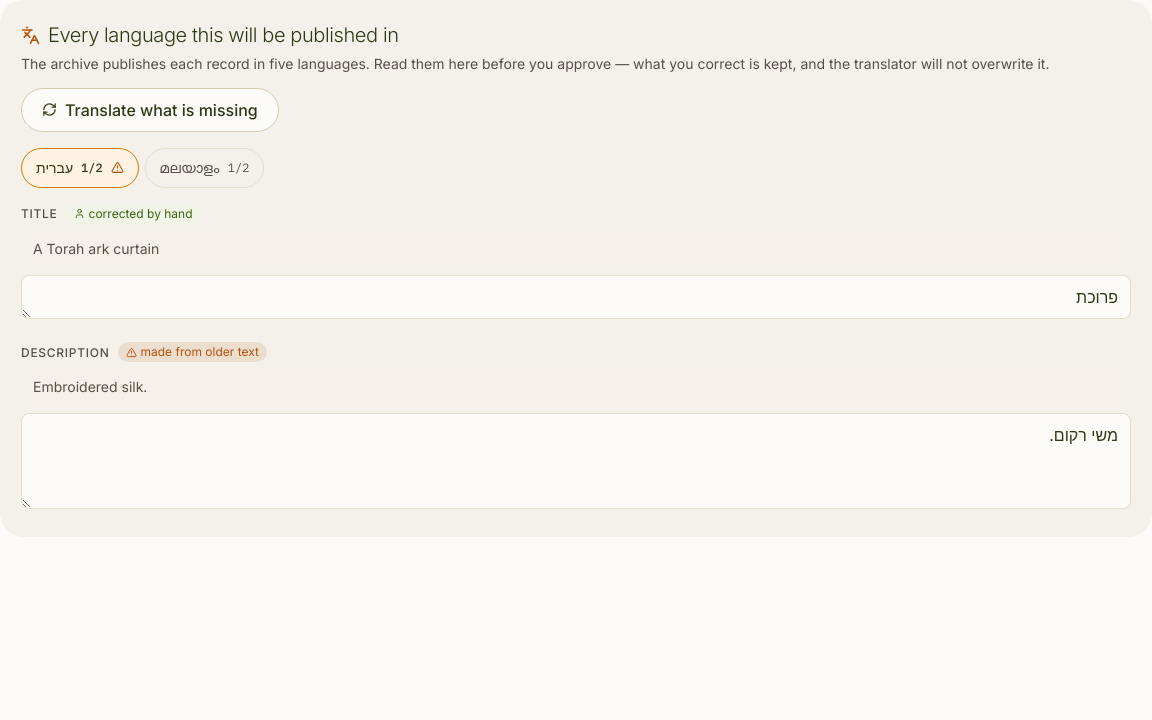
Scenario: the languages a record will be published in › offers to save only once something has actually been changed
Check: the text "עברית" is shown, box [36,158,73,178]
Check: the text "Save correction" is not shown
Type "!" into the text box below "A Torah ark curtain" at (576, 296), box [21,274,1131,318]
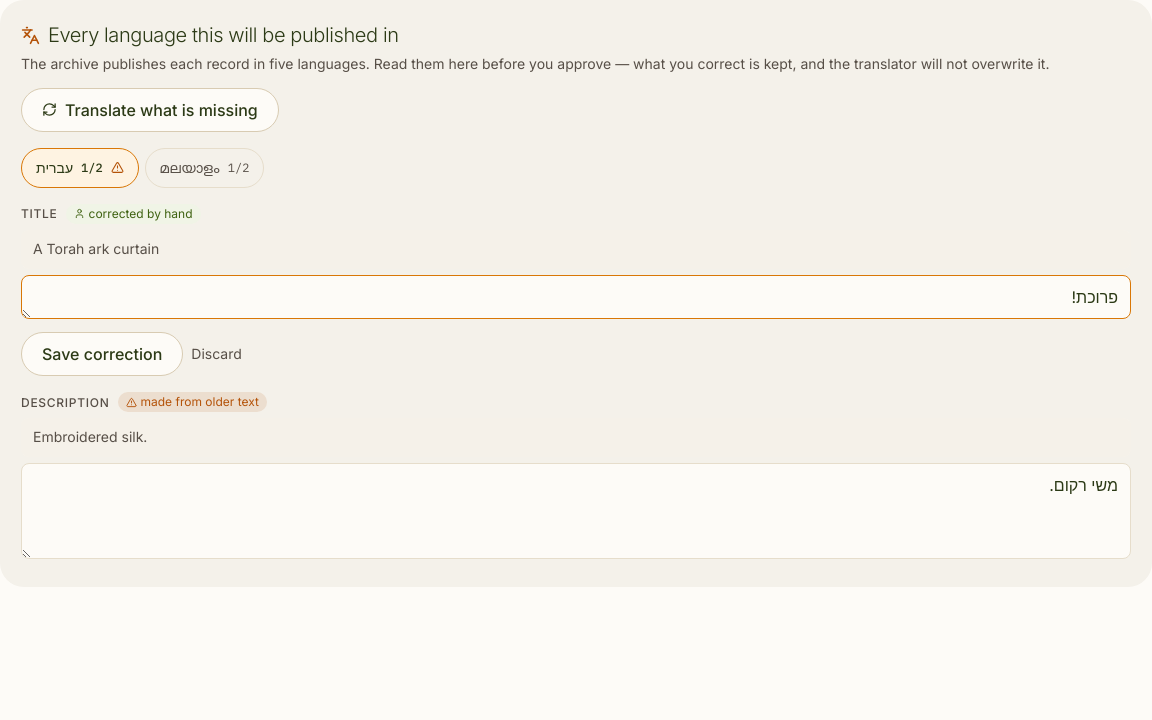
Check: the button "Save correction" is shown, box [21,332,183,376]
